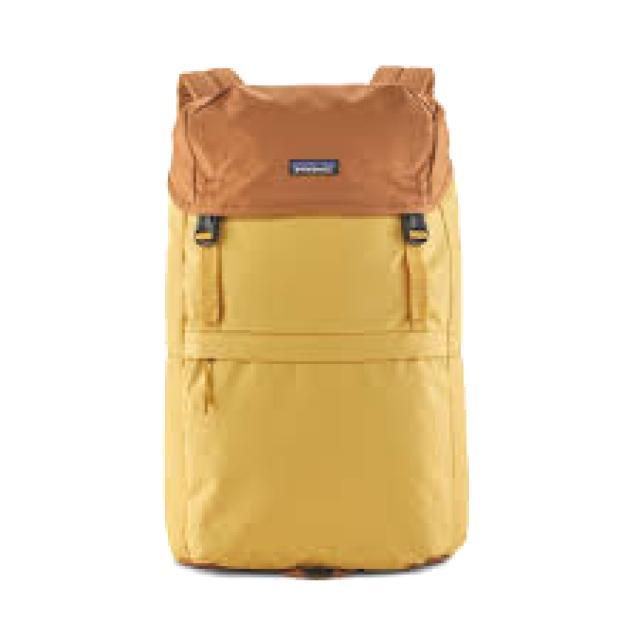backpack: (163, 64, 470, 576)
